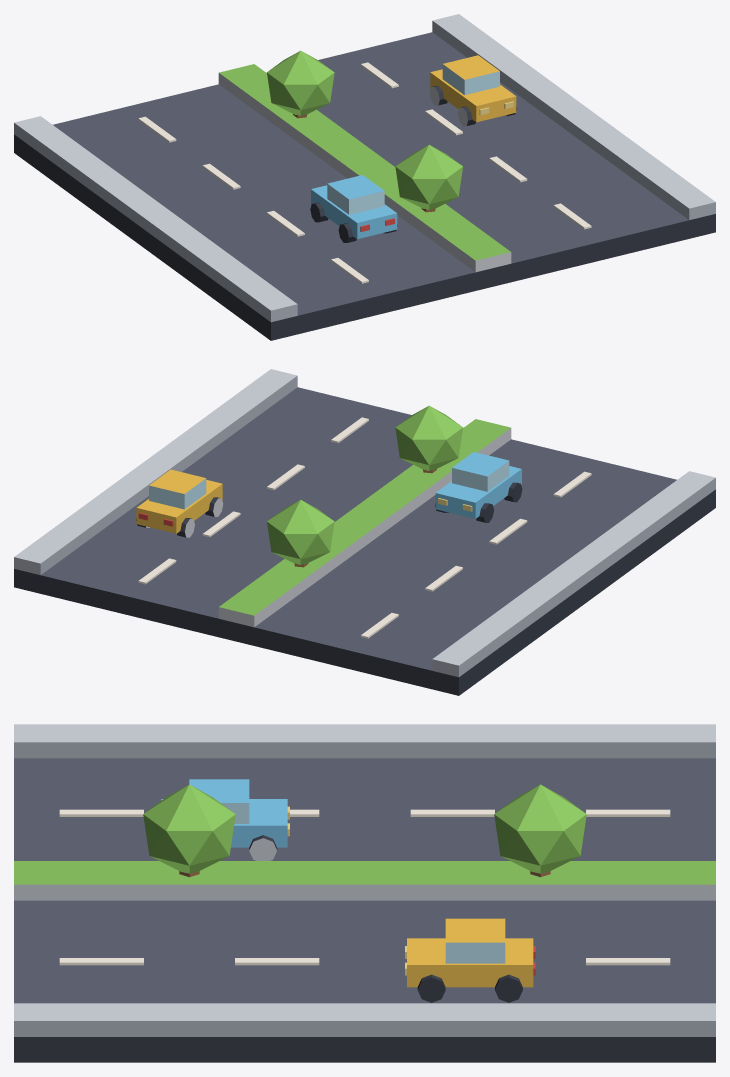
File: avenue_straight.glb
3 views of the same model, one above another, from view 1: azimuth 30°, elevation 25°; view 2: azimuth 150°, elevation 25°; view 3: azimuth 270°, elevation 25° (orthographic). The views are drawn at different scales.
Visible parts, largest first — view 1: avenue_straight; view 2: avenue_straight; view 3: avenue_straight.
Boxes of the visible parts, left/top/right/bottom form: avenue_straight: left=14, top=14, right=715, bottom=340; avenue_straight: left=14, top=369, right=715, bottom=695; avenue_straight: left=14, top=724, right=715, bottom=1062.
Bounding box in the file's own units: 1 × 0.204 × 1.
